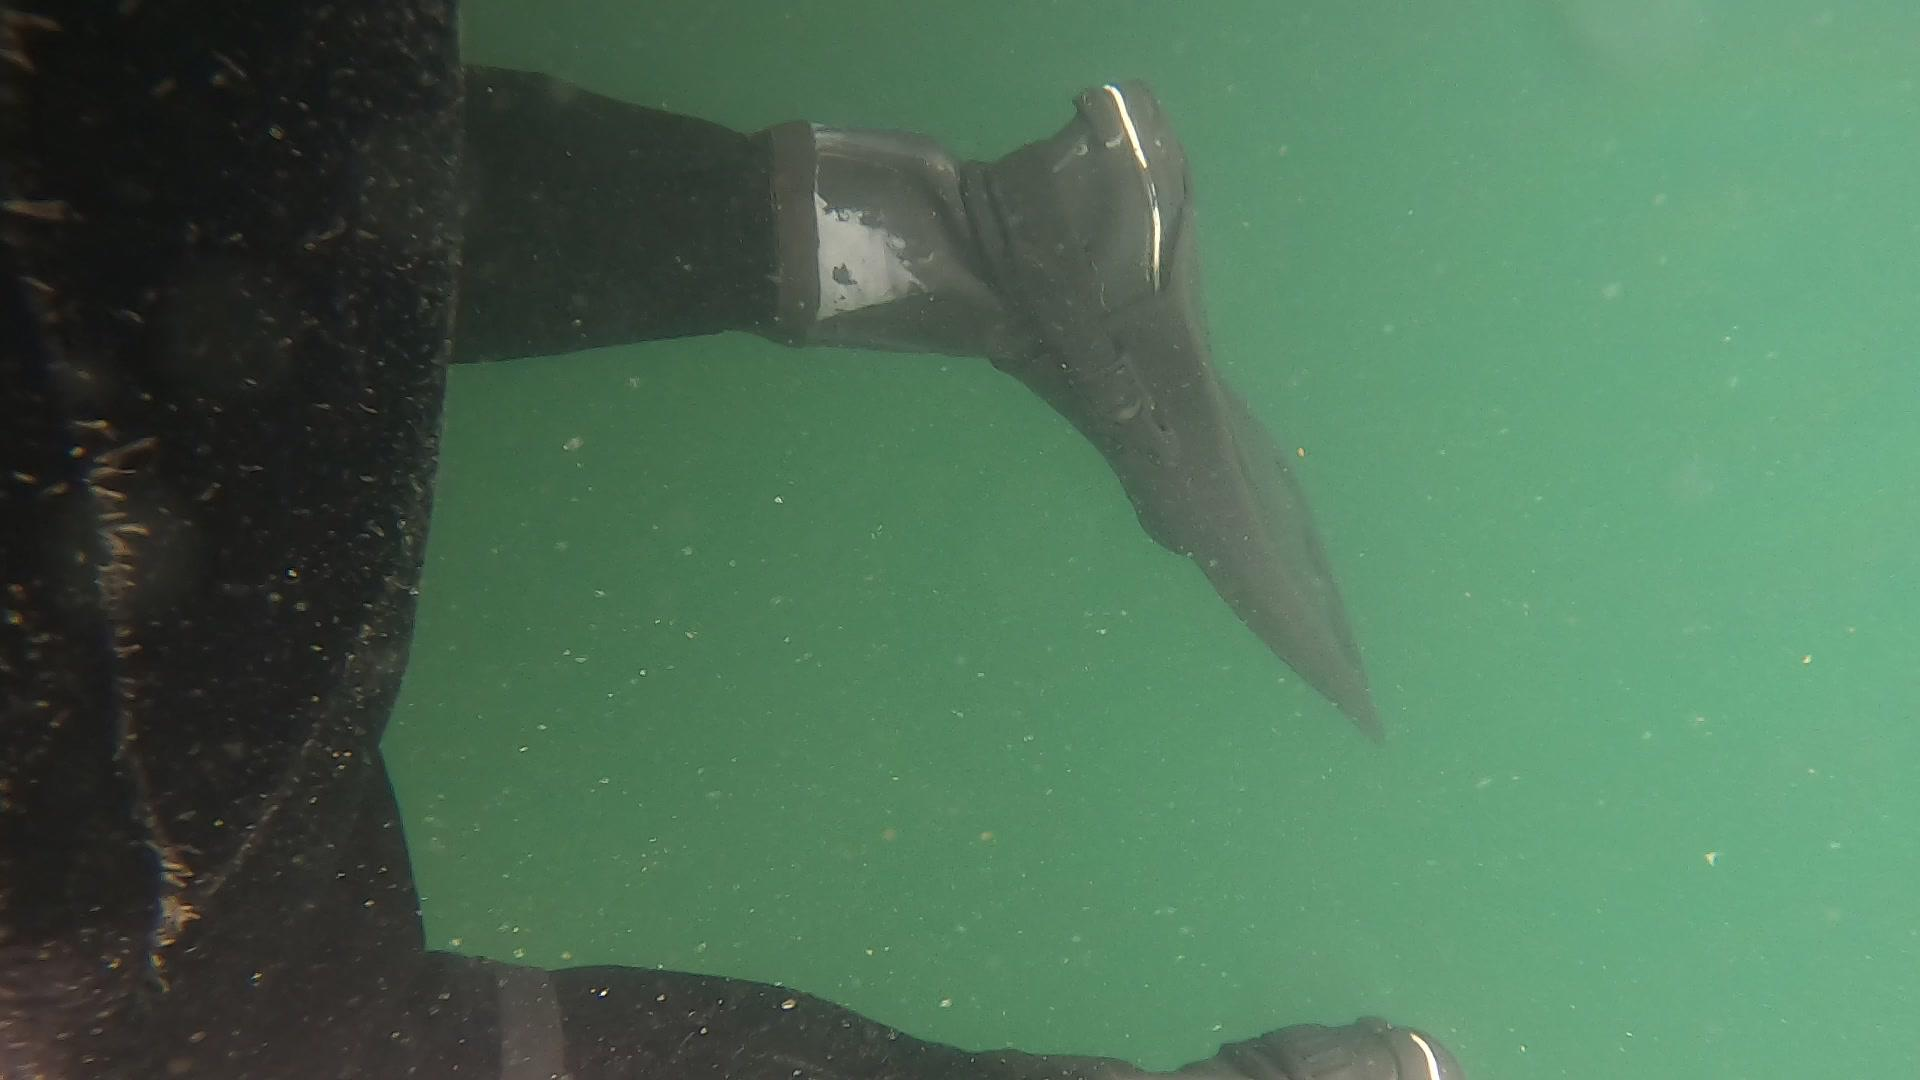fish net: (0, 240, 400, 720)
other objects: (1, 4, 1557, 1063)
